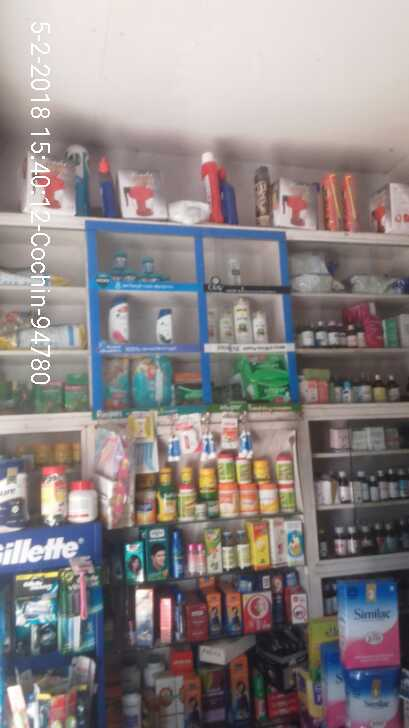vicks: (100, 249, 178, 281)
